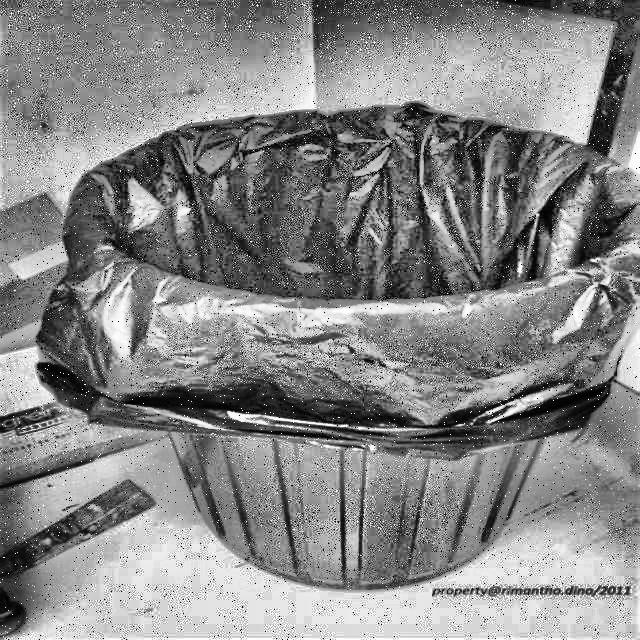Dustbin: (30, 86, 640, 595)
